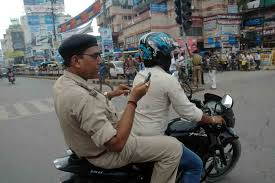helmet: (137, 32, 178, 73)
